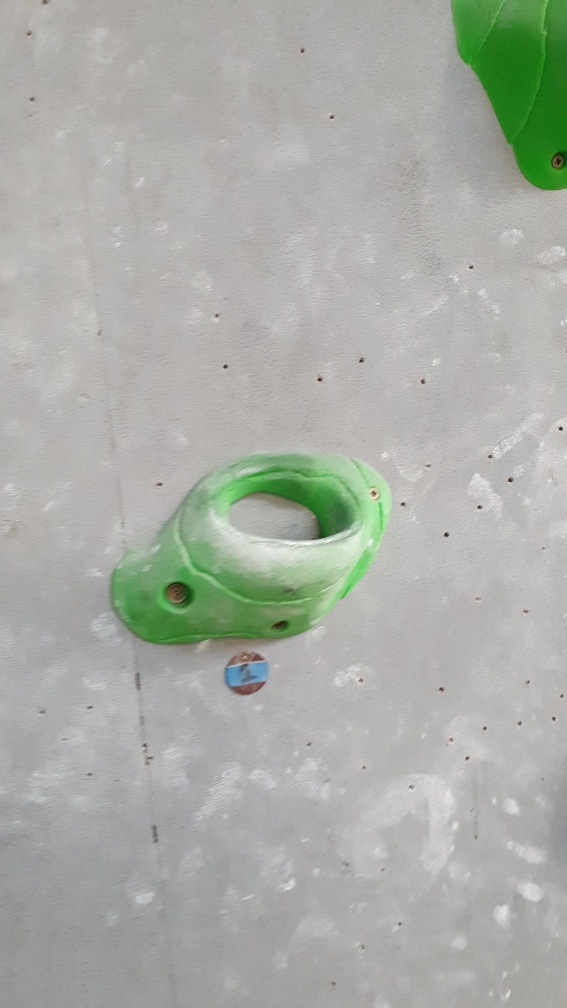Hand Start: (221, 643, 271, 703)
Pocket: (105, 444, 395, 651)
